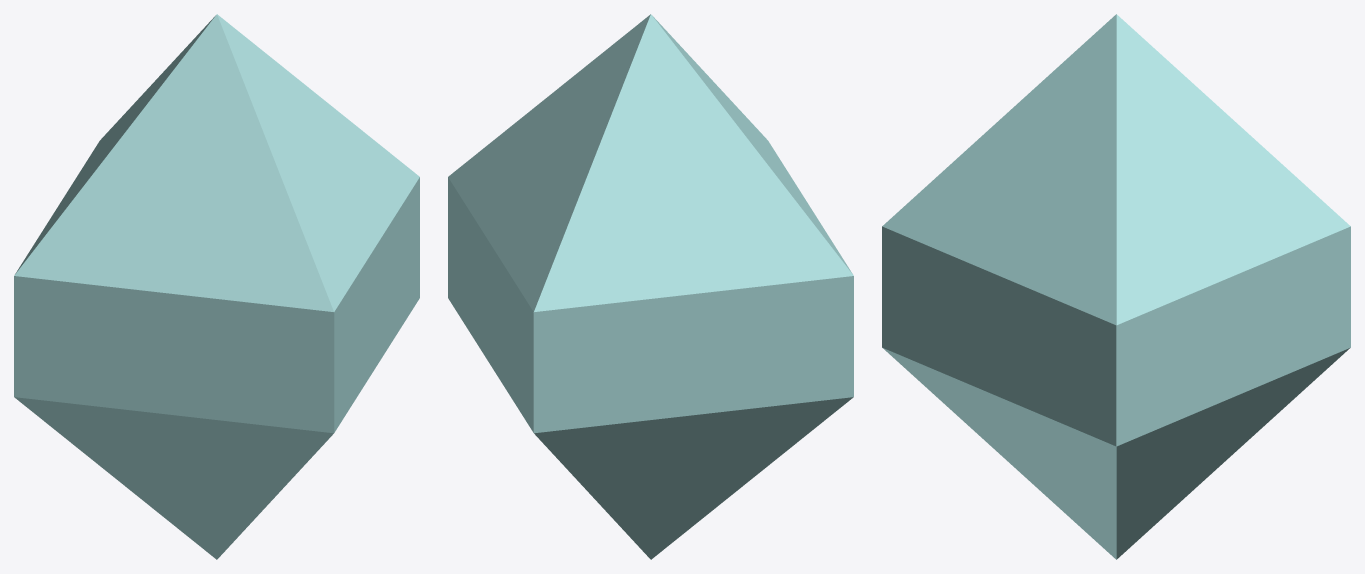
Rendered from doublepoints.fbx.
The picture shows the model from 3 angles, left to right: view 1: azimuth 30°, elevation 25°; view 2: azimuth 150°, elevation 25°; view 3: azimuth 270°, elevation 25°; orthographic projection.
Visible parts, largest first — view 1: pPyramid1; view 2: pPyramid1; view 3: pPyramid1.
Part boxes in pixels (x1,y1,x2,y2): pPyramid1: (14, 14, 419, 559); pPyramid1: (448, 14, 853, 559); pPyramid1: (882, 14, 1350, 559).
Bounding box in the file's own units: 18.97 × 24.38 × 18.97.
